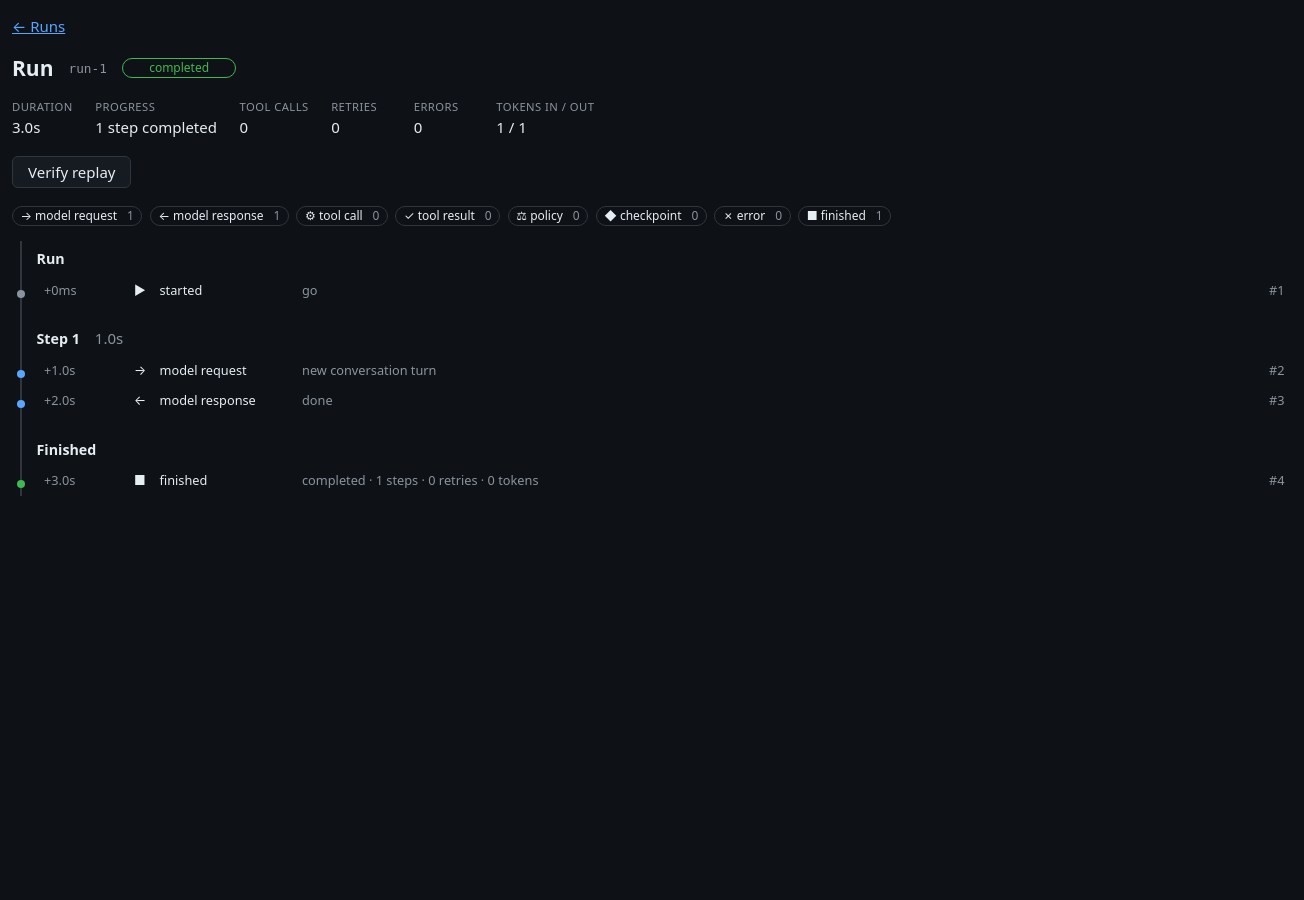
it: RunDetailPage actions › reports a replay divergence, scrolls to its event, and opens it
This screenshot has width=1304, height=900.
Click the button "Verify replay": (72, 172) [12,156,132,188]
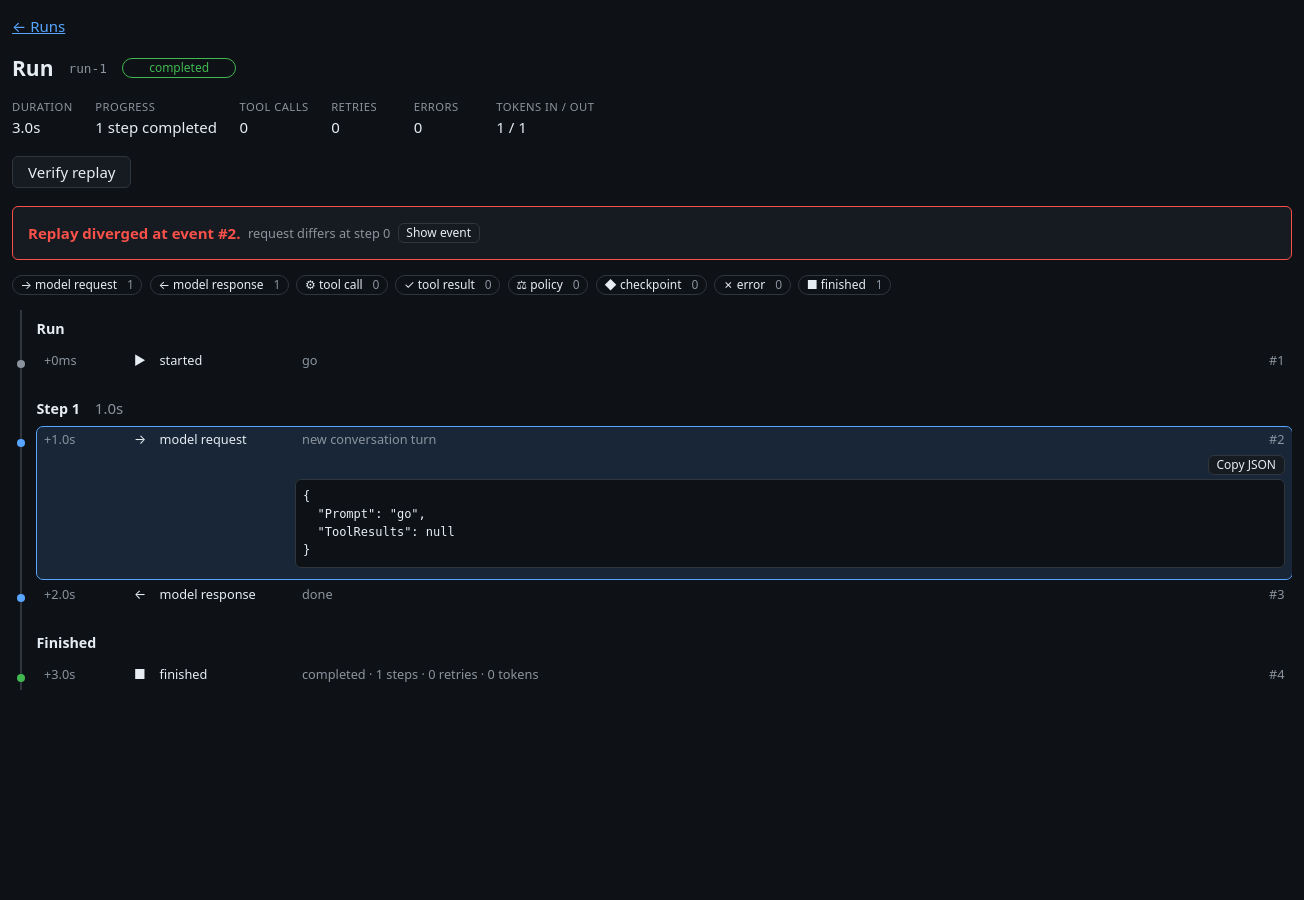
Expected: the text "Replay diverged at event #2." is shown, [28,222,240,244]
Expected: the button "+1.0s → model request new conversation turn #2" is expanded, [36,427,1292,455]
